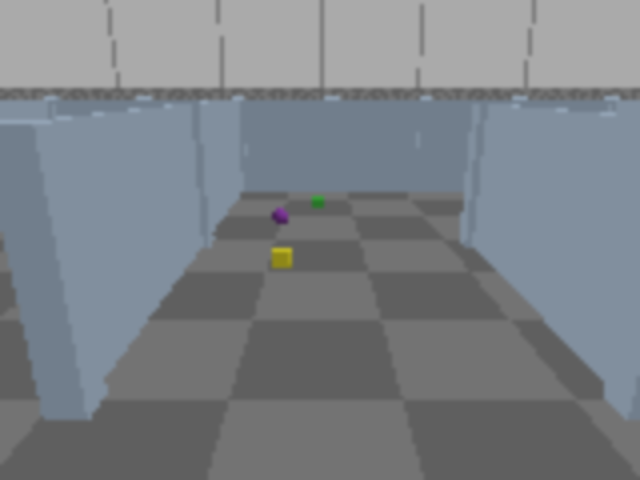puck: (271, 206, 290, 226), (272, 248, 291, 267)
